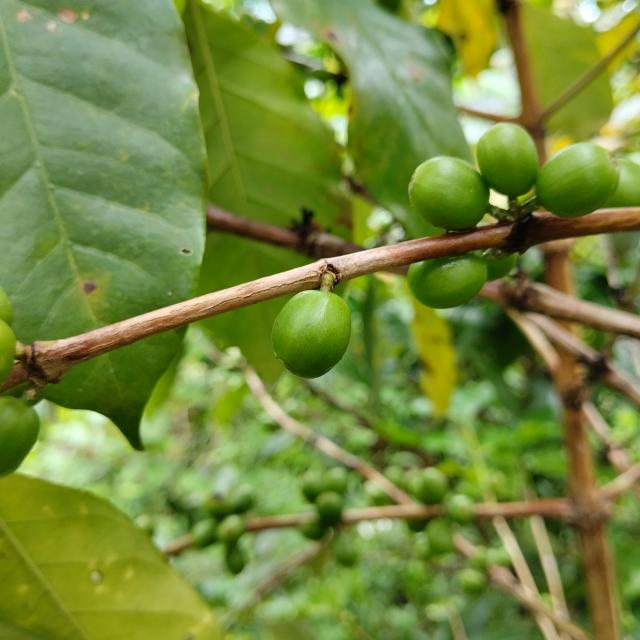green: (272, 290, 351, 379), (536, 142, 620, 217), (409, 156, 490, 230), (477, 122, 539, 198), (407, 253, 488, 309), (0, 396, 39, 478)
